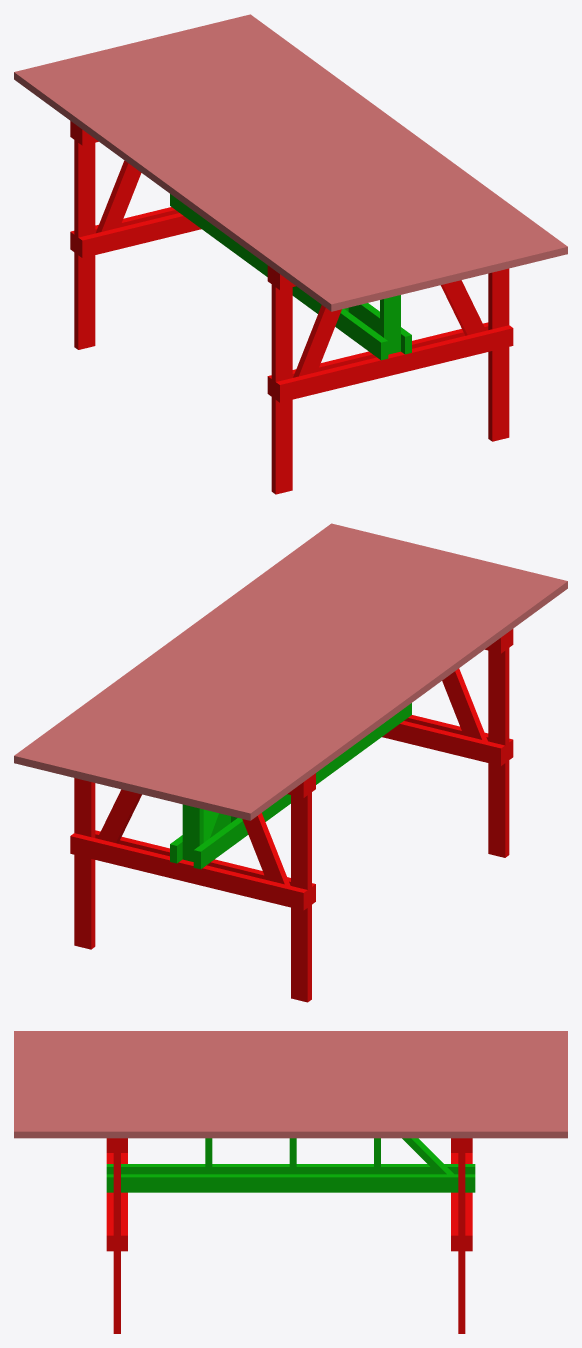
File: result.glb
3 views of the same model, one above another, from view 1: azimuth 30°, elevation 25°; view 2: azimuth 150°, elevation 25°; view 3: azimuth 270°, elevation 25° (orthographic). The views are drawn at different scales.
Visible parts, largest first — view 1: 54bb0759-cc40-456c-bdba-dae0955b8bea__Box, 1c486a31-1249-41ef-87b0-d8671db56ad2__undefined, 2477eb19-58a8-4c39-818e-4d6c0496728c__undefined, 76979856-6c44-440d-b34d-f78f80ad2420__undefined, 4c9008f3-39bd-4503-bf62-e4247f2cccd7__undefined, 070f676c-b83e-4afd-a546-7118d32e475d__undefined, c307f515-91ec-4d89-a897-fcc4af0af1f0__undefined, 2fd30800-fef4-4413-a343-cbce64bea338__undefined, c6c7e875-53d6-42c3-926b-734ebac07743__undefined, bed4291a-8a52-4241-ad51-14b44a174623__undefined, a930a92b-742b-43ed-a392-2495c2418731__undefined, 464fa85f-c191-439c-bf4f-ffb00f5fee12__undefined (+14 smaller); view 2: 54bb0759-cc40-456c-bdba-dae0955b8bea__Box, 4c9008f3-39bd-4503-bf62-e4247f2cccd7__undefined, 76979856-6c44-440d-b34d-f78f80ad2420__undefined, c307f515-91ec-4d89-a897-fcc4af0af1f0__undefined, 070f676c-b83e-4afd-a546-7118d32e475d__undefined, 2477eb19-58a8-4c39-818e-4d6c0496728c__undefined, 1c486a31-1249-41ef-87b0-d8671db56ad2__undefined, c6c7e875-53d6-42c3-926b-734ebac07743__undefined, a930a92b-742b-43ed-a392-2495c2418731__undefined, 41fa6c0c-61bc-45eb-8b7c-82247c8b3c90__undefined, bed4291a-8a52-4241-ad51-14b44a174623__undefined, 464fa85f-c191-439c-bf4f-ffb00f5fee12__undefined (+14 smaller); view 3: 2fd30800-fef4-4413-a343-cbce64bea338__undefined, f67ea84c-af82-4665-9c56-4de73f2f7bee__strutH, 54bb0759-cc40-456c-bdba-dae0955b8bea__Box, 2477eb19-58a8-4c39-818e-4d6c0496728c__undefined, c6c7e875-53d6-42c3-926b-734ebac07743__undefined, bed4291a-8a52-4241-ad51-14b44a174623__undefined, a930a92b-742b-43ed-a392-2495c2418731__undefined, ca3cddc0-1ab3-478a-9cd2-784e9bb53f2e__undefined, 4c9008f3-39bd-4503-bf62-e4247f2cccd7__undefined, 1c486a31-1249-41ef-87b0-d8671db56ad2__undefined, c307f515-91ec-4d89-a897-fcc4af0af1f0__undefined, 76979856-6c44-440d-b34d-f78f80ad2420__undefined (+11 smaller).
Part boxes in pixels (<box>): 54bb0759-cc40-456c-bdba-dae0955b8bea__Box: <box>14,68,348,311</box>; 1c486a31-1249-41ef-87b0-d8671db56ad2__undefined: <box>149,35,483,278</box>; 2477eb19-58a8-4c39-818e-4d6c0496728c__undefined: <box>31,64,365,307</box>; 76979856-6c44-440d-b34d-f78f80ad2420__undefined: <box>183,26,517,270</box>; 4c9008f3-39bd-4503-bf62-e4247f2cccd7__undefined: <box>132,39,466,282</box>; 070f676c-b83e-4afd-a546-7118d32e475d__undefined: <box>200,22,534,266</box>; c307f515-91ec-4d89-a897-fcc4af0af1f0__undefined: <box>166,31,500,274</box>; 2fd30800-fef4-4413-a343-cbce64bea338__undefined: <box>234,14,567,257</box>; c6c7e875-53d6-42c3-926b-734ebac07743__undefined: <box>48,59,381,303</box>; bed4291a-8a52-4241-ad51-14b44a174623__undefined: <box>65,55,398,299</box>; a930a92b-742b-43ed-a392-2495c2418731__undefined: <box>99,47,432,290</box>; 464fa85f-c191-439c-bf4f-ffb00f5fee12__undefined: <box>82,51,415,295</box>; 54bb0759-cc40-456c-bdba-dae0955b8bea__Box: <box>233,577,567,820</box>; 4c9008f3-39bd-4503-bf62-e4247f2cccd7__undefined: <box>115,548,449,791</box>; 76979856-6c44-440d-b34d-f78f80ad2420__undefined: <box>64,536,398,779</box>; c307f515-91ec-4d89-a897-fcc4af0af1f0__undefined: <box>81,540,415,783</box>; 070f676c-b83e-4afd-a546-7118d32e475d__undefined: <box>47,531,381,775</box>; 2477eb19-58a8-4c39-818e-4d6c0496728c__undefined: <box>216,573,550,816</box>; 1c486a31-1249-41ef-87b0-d8671db56ad2__undefined: <box>98,544,432,787</box>; c6c7e875-53d6-42c3-926b-734ebac07743__undefined: <box>200,569,533,812</box>; a930a92b-742b-43ed-a392-2495c2418731__undefined: <box>149,556,482,800</box>; 41fa6c0c-61bc-45eb-8b7c-82247c8b3c90__undefined: <box>31,527,364,771</box>; bed4291a-8a52-4241-ad51-14b44a174623__undefined: <box>183,564,516,808</box>; 464fa85f-c191-439c-bf4f-ffb00f5fee12__undefined: <box>166,560,499,804</box>; 2fd30800-fef4-4413-a343-cbce64bea338__undefined: <box>14,1124,567,1138</box>; f67ea84c-af82-4665-9c56-4de73f2f7bee__strutH: <box>106,1174,475,1192</box>; 54bb0759-cc40-456c-bdba-dae0955b8bea__Box: <box>14,1031,567,1038</box>; 2477eb19-58a8-4c39-818e-4d6c0496728c__undefined: <box>14,1038,567,1045</box>; c6c7e875-53d6-42c3-926b-734ebac07743__undefined: <box>14,1045,567,1052</box>; bed4291a-8a52-4241-ad51-14b44a174623__undefined: <box>14,1052,567,1059</box>; a930a92b-742b-43ed-a392-2495c2418731__undefined: <box>14,1067,567,1074</box>; ca3cddc0-1ab3-478a-9cd2-784e9bb53f2e__undefined: <box>14,1074,567,1081</box>; 4c9008f3-39bd-4503-bf62-e4247f2cccd7__undefined: <box>14,1081,567,1088</box>; 1c486a31-1249-41ef-87b0-d8671db56ad2__undefined: <box>14,1088,567,1095</box>; c307f515-91ec-4d89-a897-fcc4af0af1f0__undefined: <box>14,1095,567,1102</box>; 76979856-6c44-440d-b34d-f78f80ad2420__undefined: <box>14,1103,567,1110</box>.
Size of the model in its own units: 770 by 723 by 1790.
